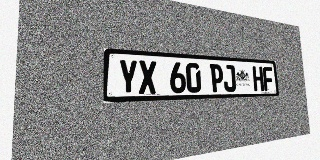0: (186, 63, 201, 93)
6: (170, 62, 186, 93)
F: (262, 67, 274, 91)
H: (252, 66, 264, 91)
J: (223, 65, 236, 92)
P: (210, 64, 224, 92)
X: (138, 60, 157, 94)
Y: (118, 59, 138, 95)
